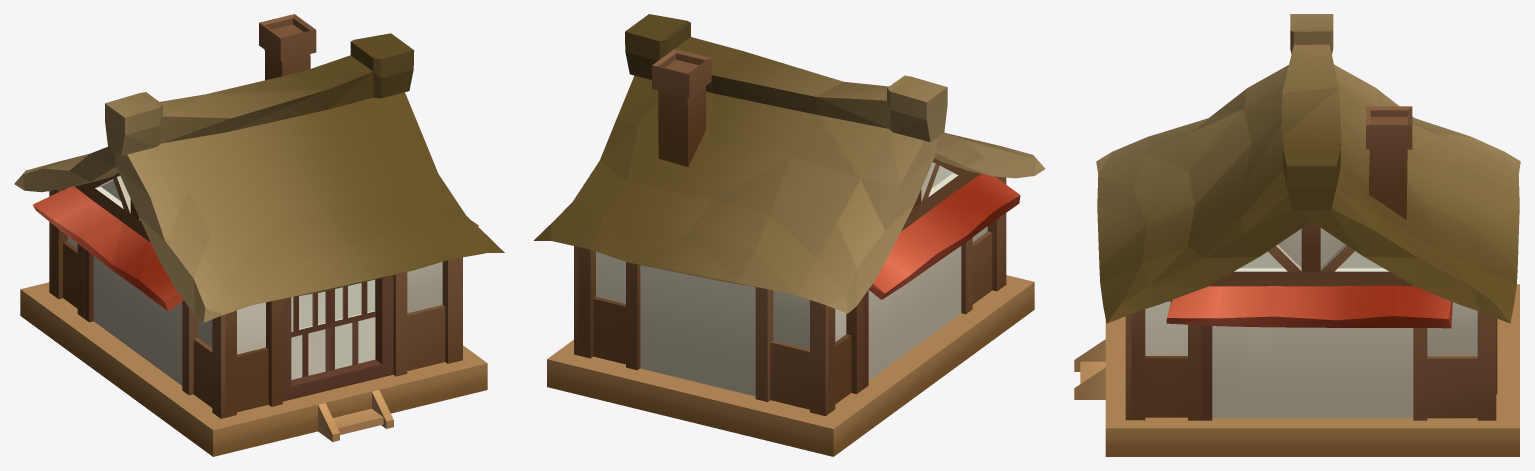
The model's file is House_4x5.fbx.
3 views of the same model, side by side, from view 1: azimuth 30°, elevation 25°; view 2: azimuth 150°, elevation 25°; view 3: azimuth 270°, elevation 25° (orthographic). The views are drawn at different scales.
Parts seen in each view (by area): view 1: House_4x5_RoofOnly.001, House_4x5_Base.001, House_Wall_Corner.009, House_Wall_Corner.012, House_4x5_LowerRoof.002, House_Door_2m_Sliding_Frame.002, House_Wall_2m_White.002, House_Door_Sliding_R.002, House_Door_Sliding_L.002, House_Chimney.001, House_Wall_Corner.010, House_Wall_1m.006 (+1 smaller); view 2: House_4x5_RoofOnly.001, House_4x5_Base.001, House_Wall_2m_White.003, House_Wall_Corner.010, House_Wall_Corner.011, House_4x5_LowerRoof.002, House_Chimney.001, House_Wall_2m_White.002, House_Wall_Corner.009, House_Wall_1m.006, House_4x5_Gable.001; view 3: House_4x5_RoofOnly.001, House_4x5_Base.001, House_Wall_2m_White.001, House_4x5_LowerRoof.001, House_Wall_Corner.011, House_Wall_Corner.012, House_Wall_1m.005, House_4x5_Gable.002, House_Chimney.001.
Part boxes in pixels (x1,y1,x2,y2): House_4x5_RoofOnly.001: (14,33,504,322); House_4x5_Base.001: (20,282,487,456); House_Wall_Corner.009: (182,299,282,418); House_Wall_Corner.012: (393,257,462,376); House_4x5_LowerRoof.002: (33,186,183,311); House_Door_2m_Sliding_Frame.002: (282,275,393,401); House_Wall_2m_White.002: (121,277,182,385); House_Door_Sliding_R.002: (330,279,375,370); House_Door_Sliding_L.002: (291,290,330,379); House_Chimney.001: (259,14,316,80); House_Wall_Corner.010: (49,188,84,318); House_Wall_1m.006: (84,249,121,340); House_4x5_RoofOnly.001: (533,14,1045,313); House_4x5_Base.001: (547,275,1034,456); House_Wall_2m_White.003: (640,265,755,396); House_Wall_Corner.010: (755,287,863,416); House_Wall_Corner.011: (574,246,640,370); House_4x5_LowerRoof.002: (868,174,1020,299); House_Chimney.001: (652,49,711,166); House_Wall_2m_White.002: (893,246,961,362); House_Wall_Corner.009: (961,176,1006,314); House_Wall_1m.006: (863,290,892,388); House_4x5_Gable.001: (901,158,980,231); House_4x5_RoofOnly.001: (1096,14,1520,323); House_4x5_Base.001: (1074,284,1519,456); House_Wall_2m_White.001: (1272,327,1412,418); House_4x5_LowerRoof.001: (1166,285,1452,328); House_Wall_Corner.011: (1413,302,1497,420); House_Wall_Corner.012: (1125,300,1201,420); House_Wall_1m.005: (1201,325,1272,420); House_4x5_Gable.002: (1208,222,1413,286); House_Chimney.001: (1366,106,1412,219).
Bounding box in the file's own units: 5.52 × 4.78 × 6.34.
Materials: 1 (1 with a texture image).
